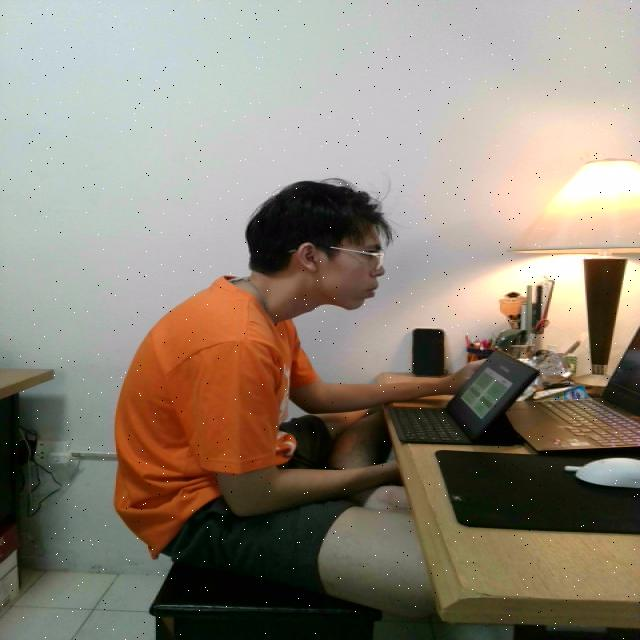Bad: (99, 176, 452, 602)
